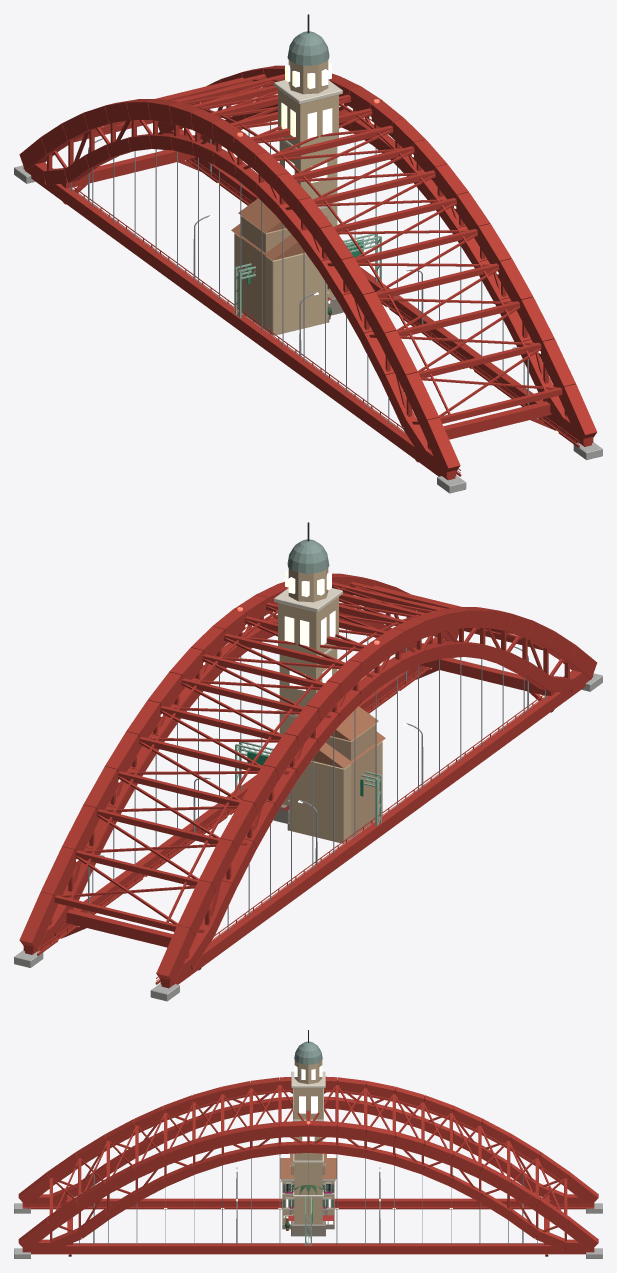
Rendered from calder_sets_kit.glb.
The picture shows the model from 3 angles, top to bottom: view 1: azimuth 30°, elevation 25°; view 2: azimuth 150°, elevation 25°; view 3: azimuth 270°, elevation 25°; orthographic projection. The views are drawn at different scales.
Visible parts, largest first — view 1: BridgeSpan_REDSTEEL, OTHouseC_HONEY, BellTower_HONEY, BridgeSpan_STEEL, OTHouseB_HONEY2, BellTower_WARM, BellTower_DOME, BridgeSpan_CONCRETE, SignGantry_GANTRY, OTHouseB_TILE, BellTower_TRIM_LIGHT; view 2: BridgeSpan_REDSTEEL, OTHouseC_HONEY, BellTower_HONEY, BridgeSpan_STEEL, OTHouseB_HONEY2, BellTower_WARM, BellTower_DOME, BridgeSpan_CONCRETE, SignGantry_GANTRY, OTHouseB_TILE, BellTower_TRIM_LIGHT; view 3: BridgeSpan_REDSTEEL, BellTower_HONEY, BridgeSpan_STEEL, BellTower_TRIM_LIGHT, BridgeSpan_CONCRETE, BellTower_DOME, BellTower_WARM, BellTower_STONE.
Boxes of the visible parts, x1,y1,x2,y2 form: BridgeSpan_REDSTEEL: (19,65,596,480); OTHouseC_HONEY: (234,233,327,335); BellTower_HONEY: (278,60,338,297); BridgeSpan_STEEL: (71,121,528,439); OTHouseB_HONEY2: (241,216,291,329); BellTower_WARM: (281,62,332,138); BellTower_DOME: (287,31,329,65); BridgeSpan_CONCRETE: (14,132,602,493); SignGantry_GANTRY: (235,234,381,318); OTHouseB_TILE: (238,198,327,232); BellTower_TRIM_LIGHT: (274,80,342,209); BridgeSpan_REDSTEEL: (19,573,597,988); OTHouseC_HONEY: (289,741,382,843); BellTower_HONEY: (278,568,338,805); BridgeSpan_STEEL: (88,629,545,931); OTHouseB_HONEY2: (325,724,375,837); BellTower_WARM: (284,570,335,646); BellTower_DOME: (287,539,329,573); BridgeSpan_CONCRETE: (14,640,602,1001); SignGantry_GANTRY: (235,742,381,826); OTHouseB_TILE: (289,706,378,740); BellTower_TRIM_LIGHT: (274,588,342,717); BridgeSpan_REDSTEEL: (18,1076,598,1256); BellTower_HONEY: (293,1060,323,1223); BridgeSpan_STEEL: (79,1153,537,1244); BellTower_TRIM_LIGHT: (291,1071,325,1197); BridgeSpan_CONCRETE: (14,1203,602,1258); BellTower_DOME: (294,1041,322,1064); BellTower_WARM: (293,1061,323,1113); BellTower_STONE: (291,1221,325,1236).
Size of the model in its own units: 25.2 by 47.25 by 124.
